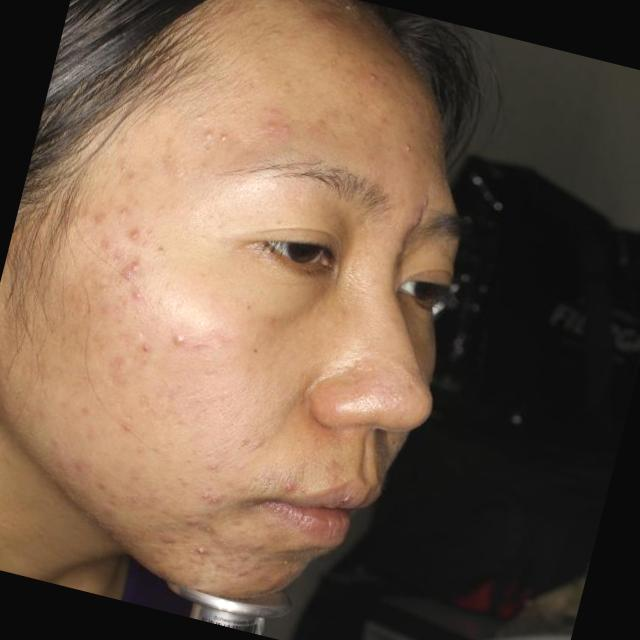acne: (89, 320, 155, 400), (150, 310, 222, 362), (177, 522, 236, 577), (91, 139, 158, 187), (62, 197, 127, 244), (132, 530, 186, 576), (185, 512, 246, 546), (107, 247, 154, 287), (149, 138, 195, 174), (118, 220, 162, 253), (238, 526, 268, 572), (264, 110, 312, 136), (408, 194, 435, 232), (236, 433, 270, 459), (95, 232, 124, 258), (123, 281, 153, 306), (196, 486, 230, 508), (200, 457, 228, 481), (66, 456, 97, 476), (114, 414, 142, 436), (278, 476, 302, 496)
